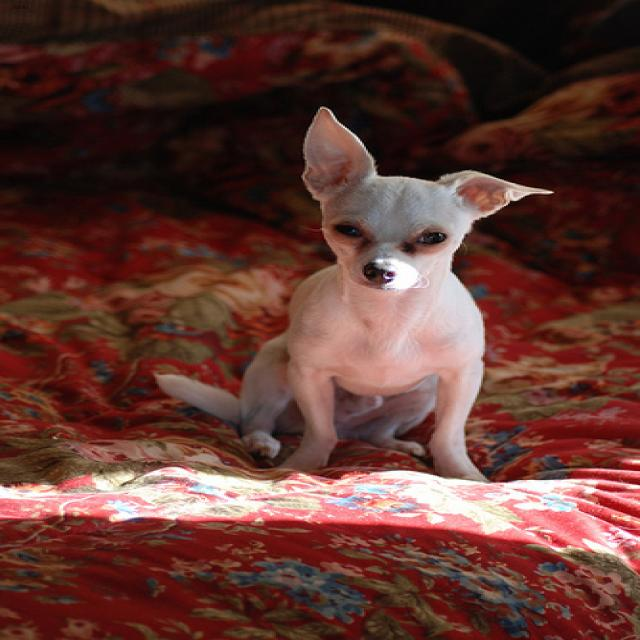dog-chihuahua: (138, 99, 569, 500)
